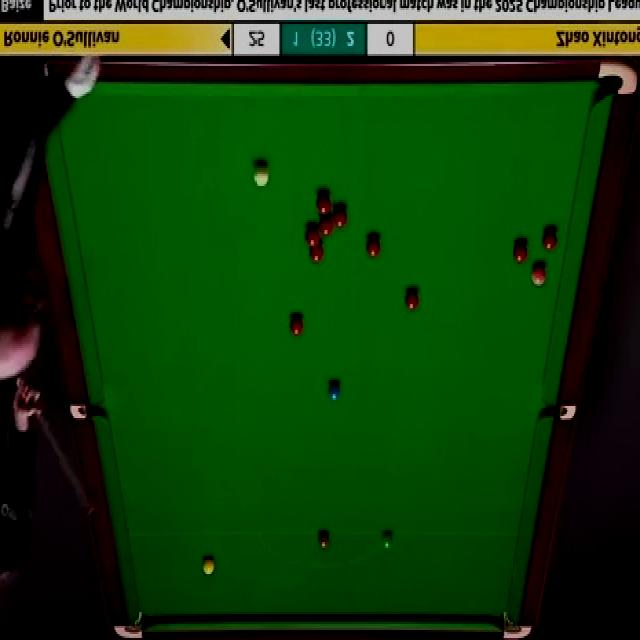blue-ball: (329, 381, 341, 404)
brown-ball: (317, 531, 331, 549)
green-ball: (380, 530, 395, 552)
pink-ball: (530, 265, 547, 287)
red-ball: (364, 232, 382, 260), (542, 228, 560, 252), (403, 289, 420, 312), (315, 189, 331, 213), (512, 240, 527, 265), (288, 315, 303, 340), (320, 212, 333, 237), (335, 202, 347, 229), (308, 243, 324, 263), (305, 223, 320, 244)
white-ball: (252, 164, 272, 188)
yellow-ball: (202, 554, 215, 576)
